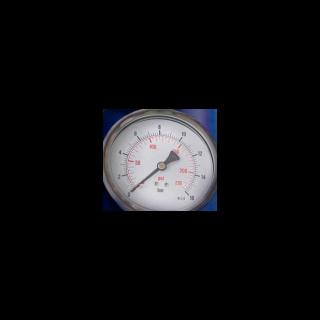gauge: (102, 109, 218, 211), (124, 184, 140, 198), (182, 188, 196, 200), (157, 161, 167, 171), (128, 188, 136, 195)
